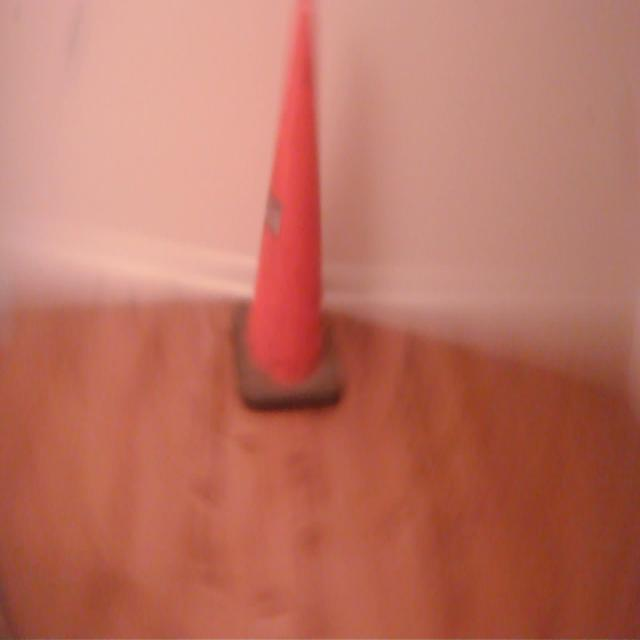traffic cone: (228, 1, 354, 423)
